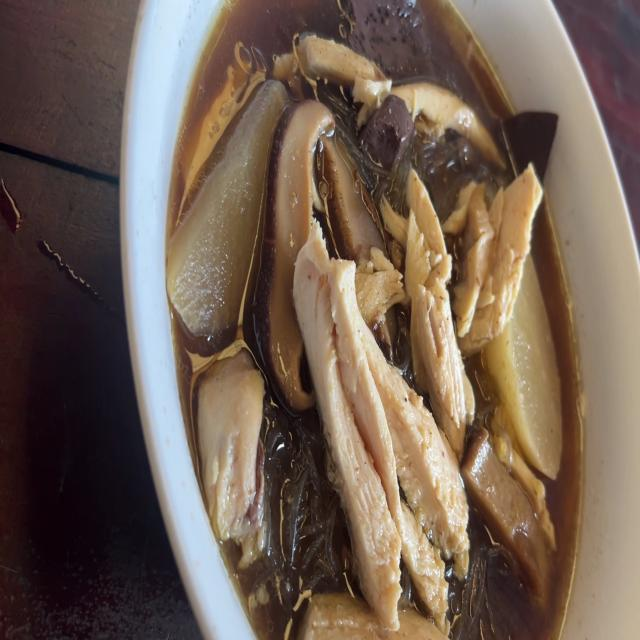noodle: (330, 0, 430, 71), (509, 97, 558, 187), (371, 101, 406, 163)
